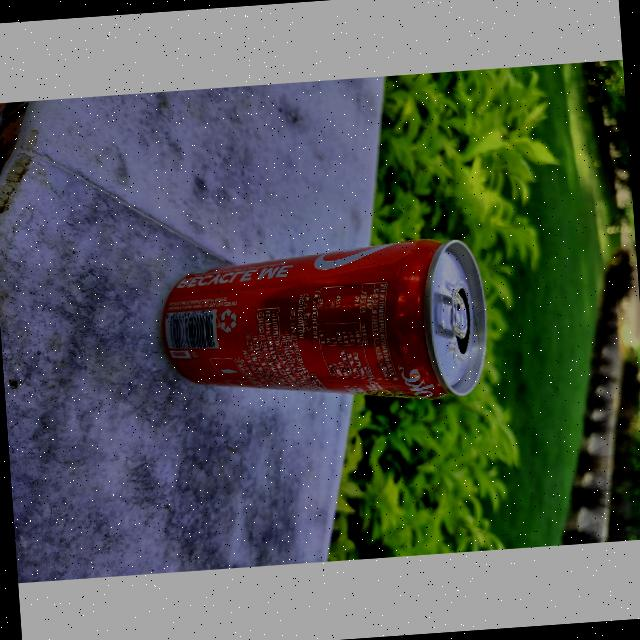Coca Cola: (142, 214, 498, 436)
